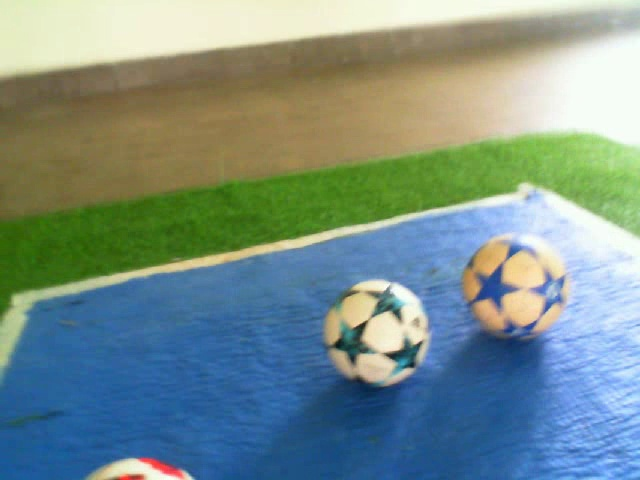ball: (457, 227, 573, 347), (319, 275, 435, 394), (75, 454, 201, 480)
